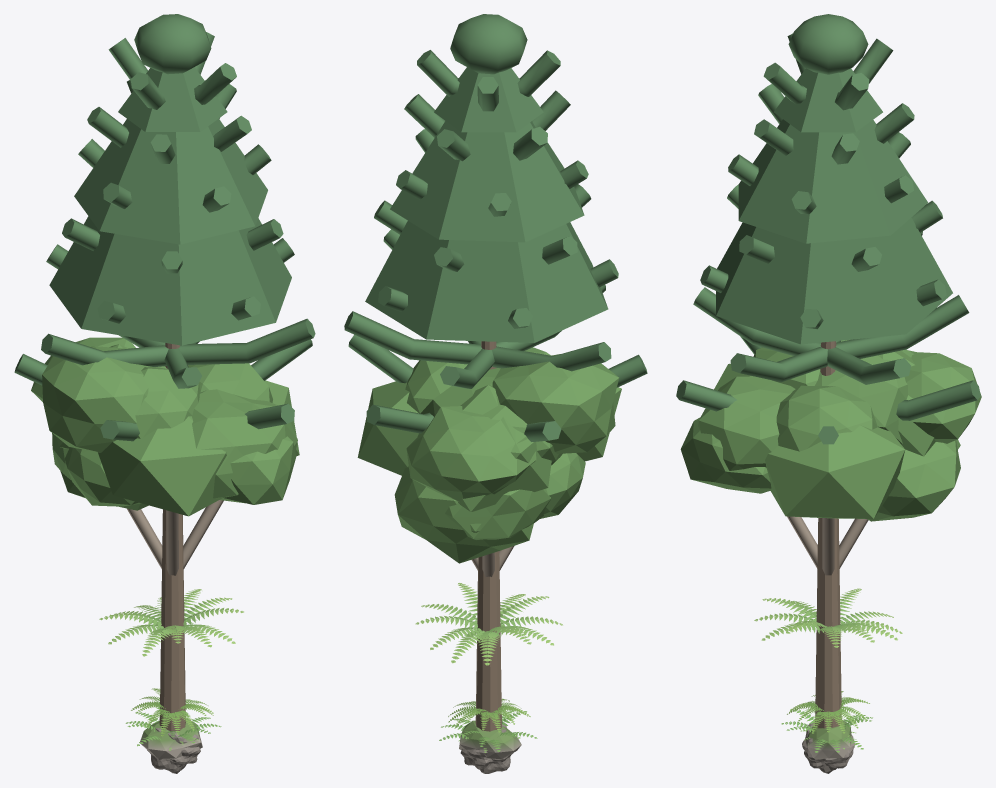
File: props.glb
The picture shows the model from 3 angles, left to right: view 1: azimuth 30°, elevation 25°; view 2: azimuth 150°, elevation 25°; view 3: azimuth 270°, elevation 25°; orthographic projection.
Parts seen in each view (by area): view 1: KEEP ConiferFar, KEEP Conifer, KEEP Broadleaf, KEEP BroadleafFar, KEEP TreeFern, KEEP MossRock, KEEP Cycad, KEEP Asteroid, KEEP FernBig; view 2: KEEP ConiferFar, KEEP Broadleaf, KEEP Conifer, KEEP BroadleafFar, KEEP TreeFern, KEEP MossRock, KEEP Cycad, KEEP Asteroid, KEEP FernBig; view 3: KEEP ConiferFar, KEEP Conifer, KEEP Broadleaf, KEEP BroadleafFar, KEEP TreeFern, KEEP MossRock, KEEP Cycad, KEEP Asteroid, KEEP FernBig.
Boxes of the visible parts, left/top/right/bottom form: KEEP ConiferFar: left=49, top=67, right=291, bottom=345; KEEP Conifer: left=14, top=14, right=315, bottom=731; KEEP Broadleaf: left=31, top=337, right=297, bottom=575; KEEP BroadleafFar: left=42, top=344, right=299, bottom=516; KEEP TreeFern: left=99, top=589, right=243, bottom=656; KEEP MossRock: left=140, top=719, right=202, bottom=759; KEEP Cycad: left=131, top=688, right=213, bottom=736; KEEP Asteroid: left=147, top=728, right=200, bottom=773; KEEP FernBig: left=125, top=702, right=221, bottom=746; KEEP ConiferFar: left=365, top=67, right=608, bottom=342; KEEP Broadleaf: left=394, top=347, right=618, bottom=576; KEEP Conifer: left=344, top=14, right=647, bottom=731; KEEP BroadleafFar: left=357, top=381, right=621, bottom=511; KEEP TreeFern: left=415, top=583, right=562, bottom=665; KEEP MossRock: left=459, top=720, right=521, bottom=759; KEEP Cycad: left=448, top=698, right=530, bottom=732; KEEP Asteroid: left=460, top=724, right=513, bottom=773; KEEP FernBig: left=439, top=710, right=537, bottom=751; KEEP ConiferFar: left=716, top=68, right=952, bottom=344; KEEP Conifer: left=676, top=14, right=980, bottom=728; KEEP Broadleaf: left=680, top=340, right=981, bottom=575; KEEP BroadleafFar: left=714, top=350, right=935, bottom=518; KEEP TreeFern: left=754, top=588, right=902, bottom=647; KEEP MossRock: left=805, top=720, right=851, bottom=759; KEEP Cycad: left=787, top=691, right=869, bottom=733; KEEP Asteroid: left=802, top=723, right=854, bottom=773; KEEP FernBig: left=781, top=704, right=872, bottom=752.
Size of the model in its own units: 12.12 by 33.25 by 12.25.
